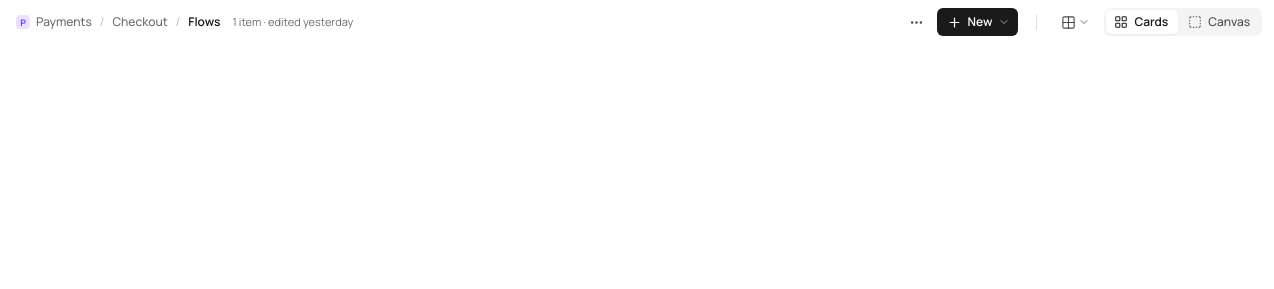
Scenario: header ⋯·New ▾ (#231 D8, T21) › Rename of a nested folder is 'Folder name' — ancestors stay links
Click the button named "More for Flows" at (916, 22), box left=902, top=8, right=930, bottom=36
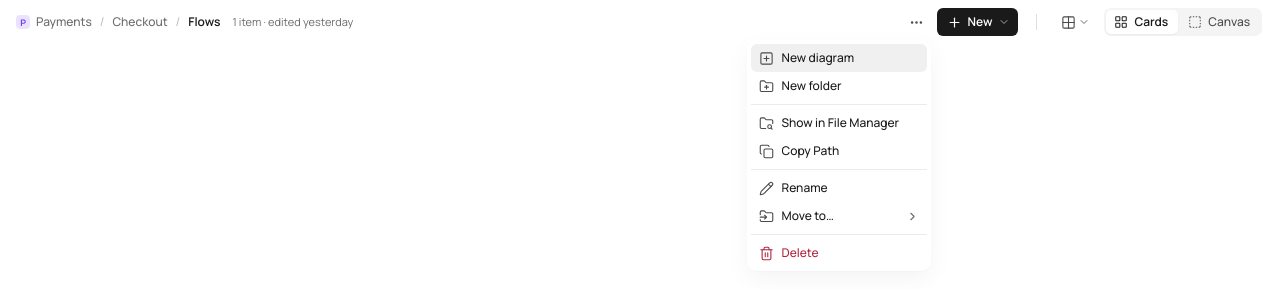
Click the menu item "Rename" at (838, 188), box left=750, top=174, right=926, bottom=202
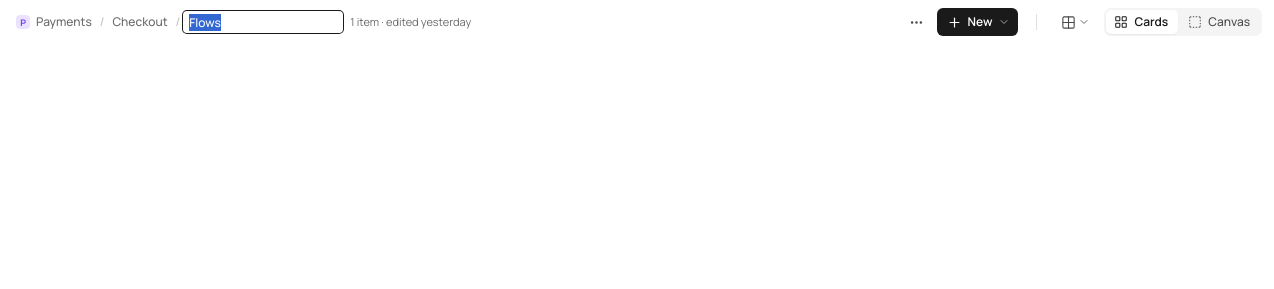
Expected: the button "Checkout" is shown, left=106, top=9, right=174, bottom=35
Expected: the field named "Folder name" holds "Flows", left=183, top=11, right=343, bottom=33
